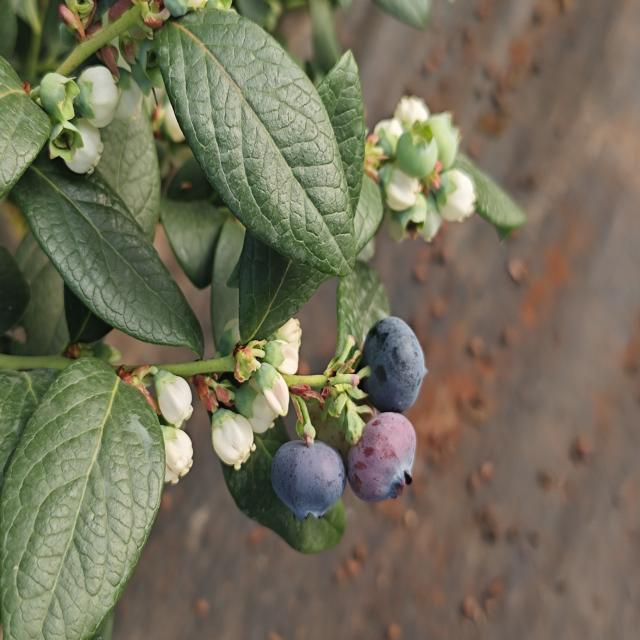ripe: (356, 314, 428, 415), (345, 410, 418, 506), (268, 436, 347, 524)
